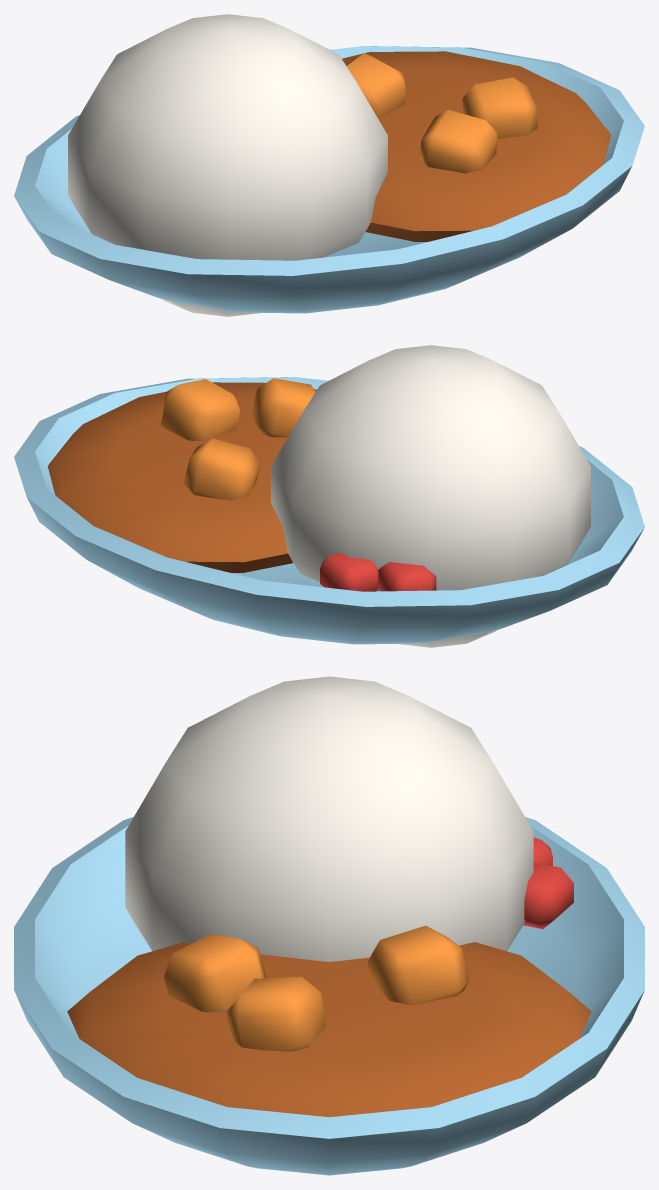
Rendered from Food_curry.glb.
The picture shows the model from 3 angles, top to bottom: view 1: azimuth 30°, elevation 25°; view 2: azimuth 150°, elevation 25°; view 3: azimuth 270°, elevation 25°; orthographic projection. The views are drawn at different scales.
Parts seen in each view (by area): view 1: Rice_FFFBF2, Plate_A8DDF7, Curry_B8642A, Carrot_FF9A3D; view 2: Rice_FFFBF2, Plate_A8DDF7, Curry_B8642A, Carrot_FF9A3D, Pickle_E0453C; view 3: Rice_FFFBF2, Plate_A8DDF7, Curry_B8642A, Carrot_FF9A3D, Pickle_E0453C.
Boxes of the visible parts, box(x1,y1,x2,y2) form: Rice_FFFBF2: box(68, 14, 387, 316); Plate_A8DDF7: box(14, 46, 644, 313); Curry_B8642A: box(342, 51, 611, 241); Carrot_FF9A3D: box(346, 53, 537, 173); Rice_FFFBF2: box(271, 345, 590, 647); Plate_A8DDF7: box(14, 377, 644, 644); Curry_B8642A: box(47, 382, 316, 572); Carrot_FF9A3D: box(161, 378, 315, 500); Pickle_E0453C: box(320, 553, 436, 591); Rice_FFFBF2: box(125, 676, 533, 961); Plate_A8DDF7: box(14, 817, 644, 1175); Curry_B8642A: box(67, 942, 591, 1117); Carrot_FF9A3D: box(164, 925, 469, 1051); Pickle_E0453C: box(523, 837, 573, 928).
Bounding box in the file's own units: 2.4 × 1.06 × 1.77.
